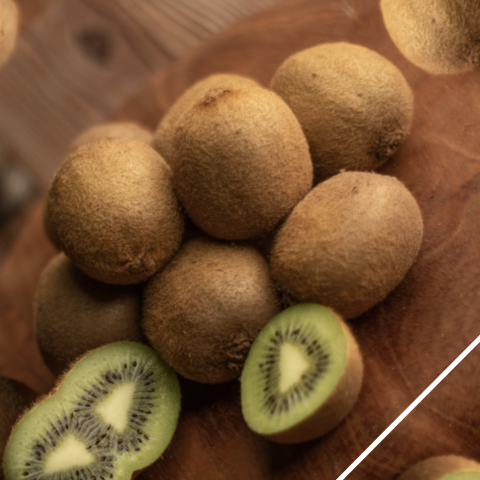kiwi: (228, 129, 460, 361), (118, 50, 344, 276), (99, 205, 318, 424), (1, 102, 215, 316), (241, 5, 450, 215)
